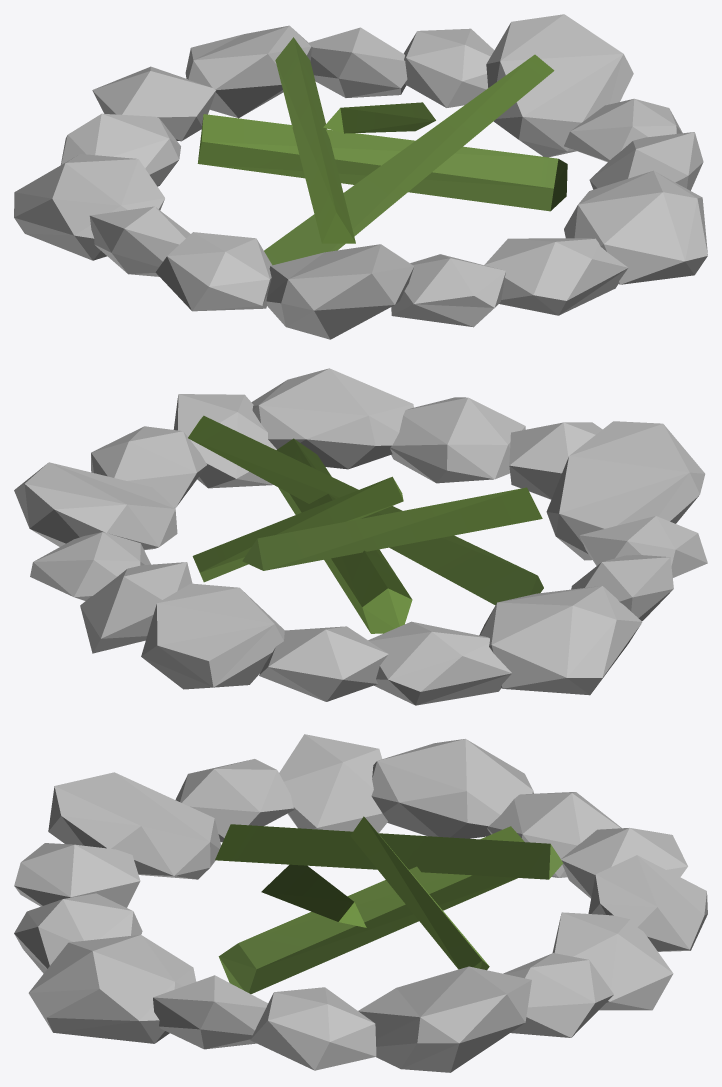
File: Fire_01.fbx
3 renders of one model, top to bottom at view 1: azimuth 30°, elevation 25°; view 2: azimuth 150°, elevation 25°; view 3: azimuth 270°, elevation 25°, orthographic. The views are drawn at different scales.
Visible parts, largest first — view 1: Fire_01; view 2: Fire_01; view 3: Fire_01.
Boxes of the visible parts, x1,y1,x2,y2 form: Fire_01: (14,14,707,339); Fire_01: (14,368,707,705); Fire_01: (14,734,707,1072).
Size of the model in its own units: 1.16 by 0.268 by 1.14.
